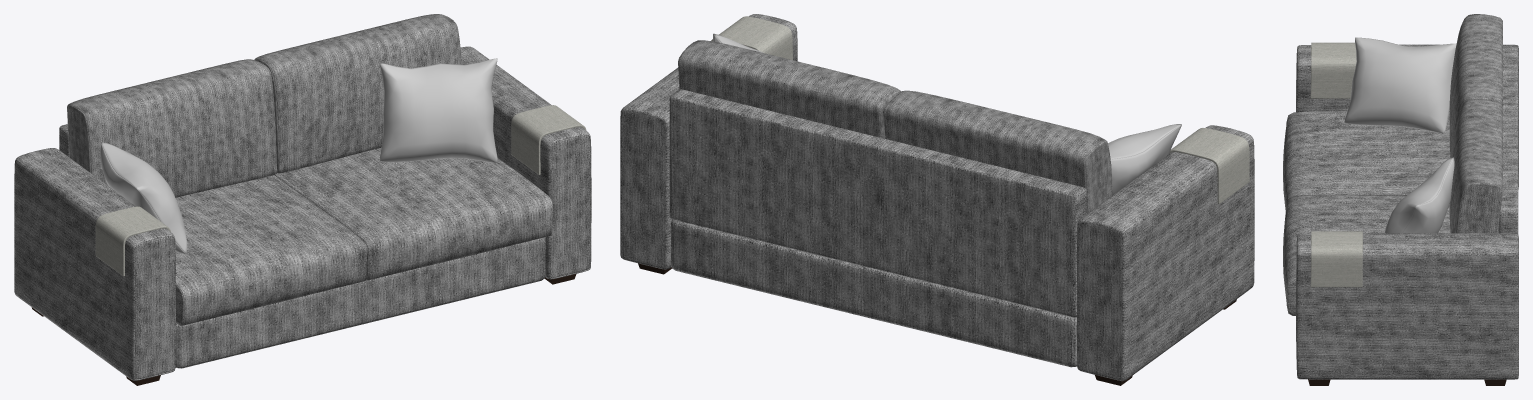
File: Divan.fbx
The picture shows the model from 3 angles, left to right: view 1: azimuth 30°, elevation 25°; view 2: azimuth 150°, elevation 25°; view 3: azimuth 270°, elevation 25°; orthographic projection. The views are drawn at different scales.
Parts seen in each view (by area): view 1: Pillow Big_Bottom, Pillow Big_Back, Sidewalls, Frame_bottom, pillow_01, Onlay_wood, pillow_02; view 2: Back cover, Sidewalls, Pillow Big_Back, Frame_bottom, Onlay_wood, pillow_02; view 3: Sidewalls, Pillow Big_Bottom, Pillow Big_Back, pillow_02, Onlay_wood, Back cover, pillow_01, Feet.
Part boxes in pixels (x1,y1,x2,y2): Pillow Big_Bottom: [175, 147, 552, 325]; Pillow Big_Back: [67, 14, 461, 197]; Sidewalls: [14, 46, 591, 380]; Frame_bottom: [175, 237, 545, 368]; pillow_01: [379, 58, 497, 162]; Onlay_wood: [95, 105, 586, 276]; pillow_02: [100, 142, 187, 253]; Back cover: [669, 89, 1086, 317]; Sidewalls: [620, 14, 1254, 380]; Pillow Big_Back: [678, 40, 1112, 213]; Frame_bottom: [671, 219, 1076, 367]; Onlay_wood: [711, 16, 1249, 204]; pillow_02: [1108, 124, 1181, 194]; Sidewalls: [1296, 44, 1518, 379]; Pillow Big_Bottom: [1283, 111, 1498, 315]; Pillow Big_Back: [1449, 14, 1502, 233]; pillow_02: [1344, 37, 1456, 133]; Onlay_wood: [1310, 42, 1362, 287]; Back cover: [1499, 45, 1518, 233]; pillow_01: [1384, 157, 1454, 233]; Feet: [1308, 379, 1506, 385].
Size of the model in its own units: 208 by 87.79 by 98.22.
